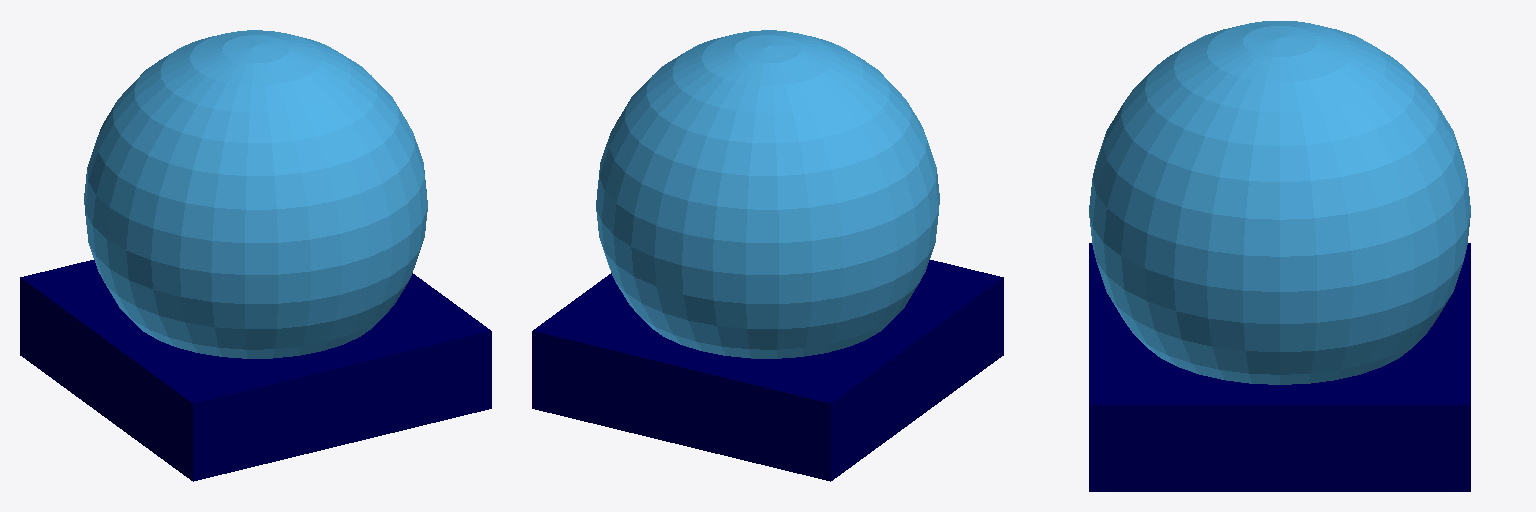
The robot description file, URDF, robot "PBot":
<?xml version="1.0" ?>
<!--simple pbot-->

<robot name="PBot">
    <link name="base_link">
        <inertial>
            <origin xyz="0.0 0.0 0.0" rpy="0 0 0" />
            <mass value="1" />
            <inertia ixx="0.1" iyy="0.1" izz="0.1" ixy="0" ixz="0" iyz="0" />
        </inertial>
    </link>
    <link name="link0">
        <inertial>
            <origin xyz="0.0 0.0 0.0" rpy="0 0 0" />
            <mass value="1" />
            <inertia ixx="0.1" iyy="0.1" izz="0.1" ixy="0" ixz="0" iyz="0" />
        </inertial>
        <visual>
            <origin xyz="0.0 0.0 0.0" rpy="0 0 0" />
            <geometry>
                <sphere radius="0.1" />
            </geometry>
        </visual>
    </link>

    <link name="sensor_link">
        <inertial>
            <origin xyz="0.0 0.0 0.0" rpy="0 0 0" />
            <mass value="0.01" />
            <inertia ixx="0.001" iyy="0.001" izz="0.001" ixy="0" ixz="0" iyz="0" />
        </inertial>
        <collision>
            <origin xyz="0.0 0.0 0.0" rpy="0 0 0" />
            <geometry>
                <box size="0.2 0.2 0.05" />
            </geometry>
        </collision>
        <visual>
            <origin xyz="0.0 0.0 0.0" rpy="0 0 0" />
            <geometry>
                <box size="0.2 0.2 0.05" />
            </geometry>
            <material name="custom">
                <color rgba="0.0 0.0 0.4 1.0" />
            </material>
        </visual>
    </link>
    
    <joint name="j0" type="prismatic">
        <parent link="base_link" />
        <child link="link0" />
        <origin xyz="0.000000 0.000000 1.000000" rpy="-0.000000 0.000000 -0.000000" />
        <axis xyz="0 0 1" />
        <limit lower="-2.967" upper="2.967" effort="176" velocity="1.7104" />
    </joint>
    <joint name="j_sensor" type="fixed">
        <parent link="link0" />
        <child link="sensor_link" />
        <origin xyz="0.000000 0.000000 -0.090000" rpy="0.000000 0.000000 -0.000000" />
        <limit lower="-2.967" upper="2.967" effort="176" velocity="1.7104" />
    </joint>


</robot>

--- Render facts (derived) ---
Views: 3 orthographic renders of the robot side by side, from view 1: azimuth 30°, elevation 25°; view 2: azimuth 150°, elevation 25°; view 3: azimuth 270°, elevation 25°.
Robot: PBot — 3 links, 2 joints (1 prismatic, 1 fixed); root link base_link; default pose: every joint at zero.
Links seen in each view (by area): view 1: link0, sensor_link; view 2: link0, sensor_link; view 3: link0, sensor_link.
Boxes of the visible links, x1=… form: link0: x1=84, y1=30, x2=427, y2=358; sensor_link: x1=20, y1=260, x2=491, y2=481; link0: x1=596, y1=30, x2=939, y2=358; sensor_link: x1=532, y1=260, x2=1003, y2=481; link0: x1=1089, y1=21, x2=1470, y2=384; sensor_link: x1=1089, y1=243, x2=1470, y2=491.
Size in the robot's own frame: 0.2 by 0.2 by 0.215 metres.
Geometry: primitives only (box / cylinder / sphere), no mesh files.